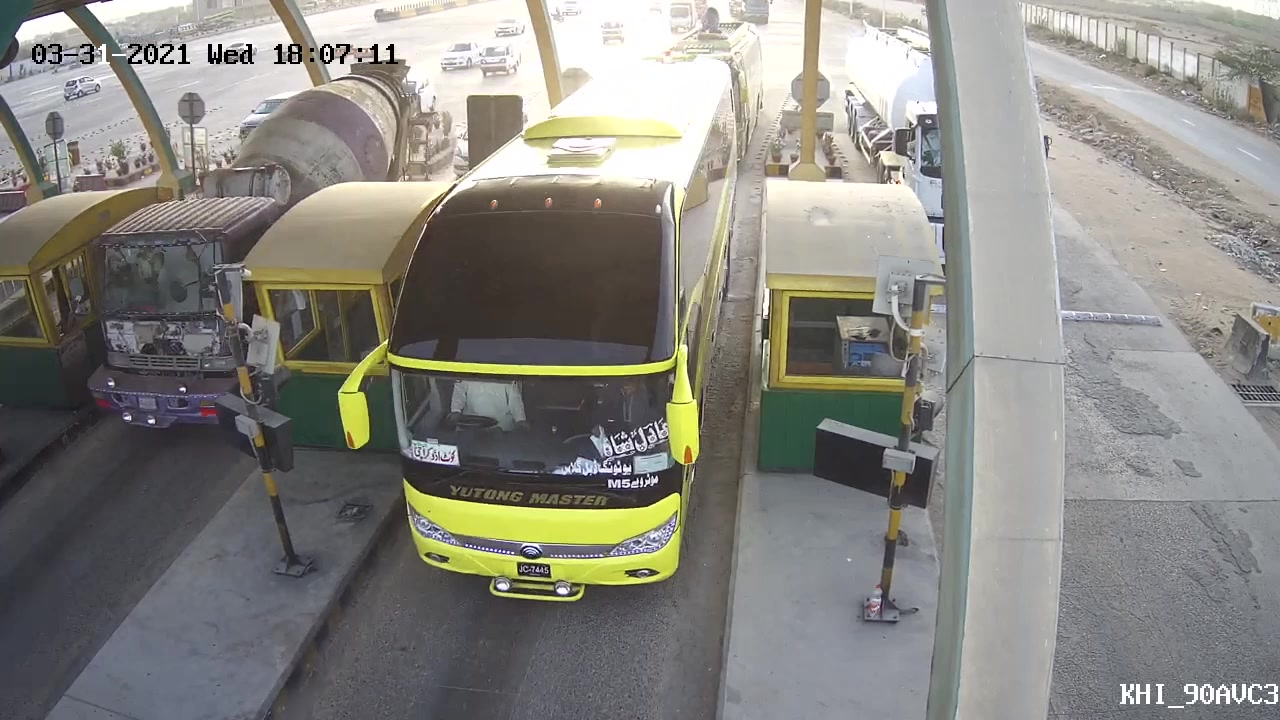F4: (389, 45, 744, 605)
